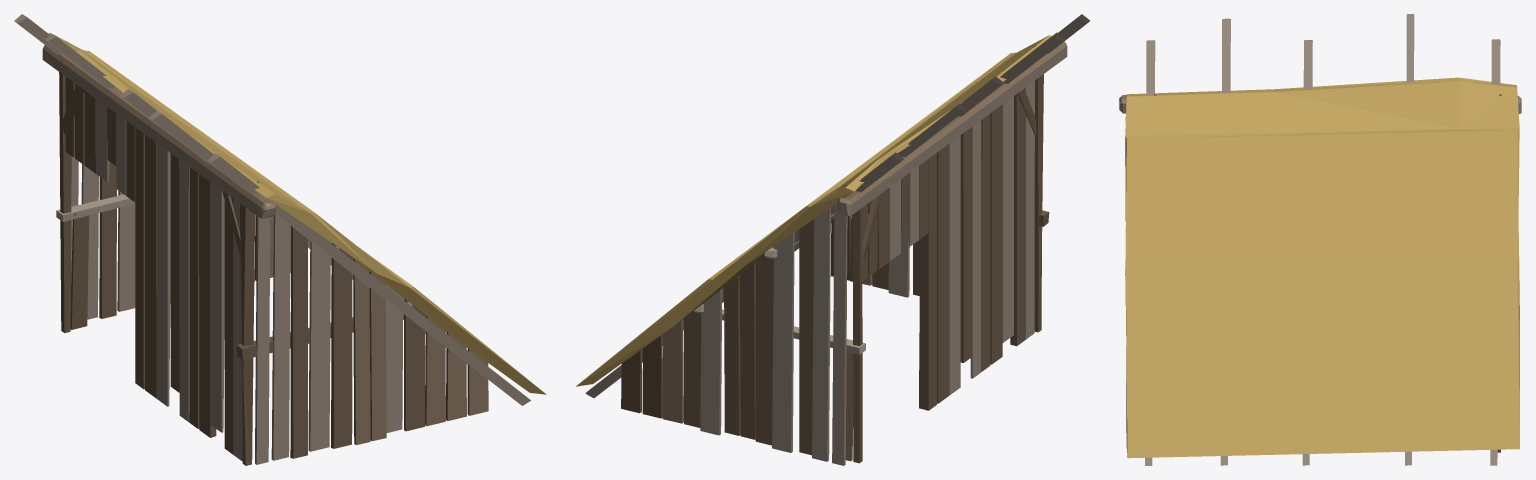
Rendered from EA03_Village_OutBuilding_PentHouse_01a.glb.
3 views of the same model, side by side, from view 1: azimuth 30°, elevation 25°; view 2: azimuth 150°, elevation 25°; view 3: azimuth 270°, elevation 25° (orthographic). The views are drawn at different scales.
Parts seen in each view (by area): view 1: EA03_Village_OutBuilding_PentHouse_01a; view 2: EA03_Village_OutBuilding_PentHouse_01a; view 3: EA03_Village_OutBuilding_PentHouse_01a.
Boxes of the visible parts, x1,y1,x2,y2 form: EA03_Village_OutBuilding_PentHouse_01a: (14,14,546,465); EA03_Village_OutBuilding_PentHouse_01a: (576,14,1090,465); EA03_Village_OutBuilding_PentHouse_01a: (1119,14,1521,465).
Bounding box in the file's own units: 9.27 × 8.81 × 10.38.
Materials: 1 (1 with a texture image).
